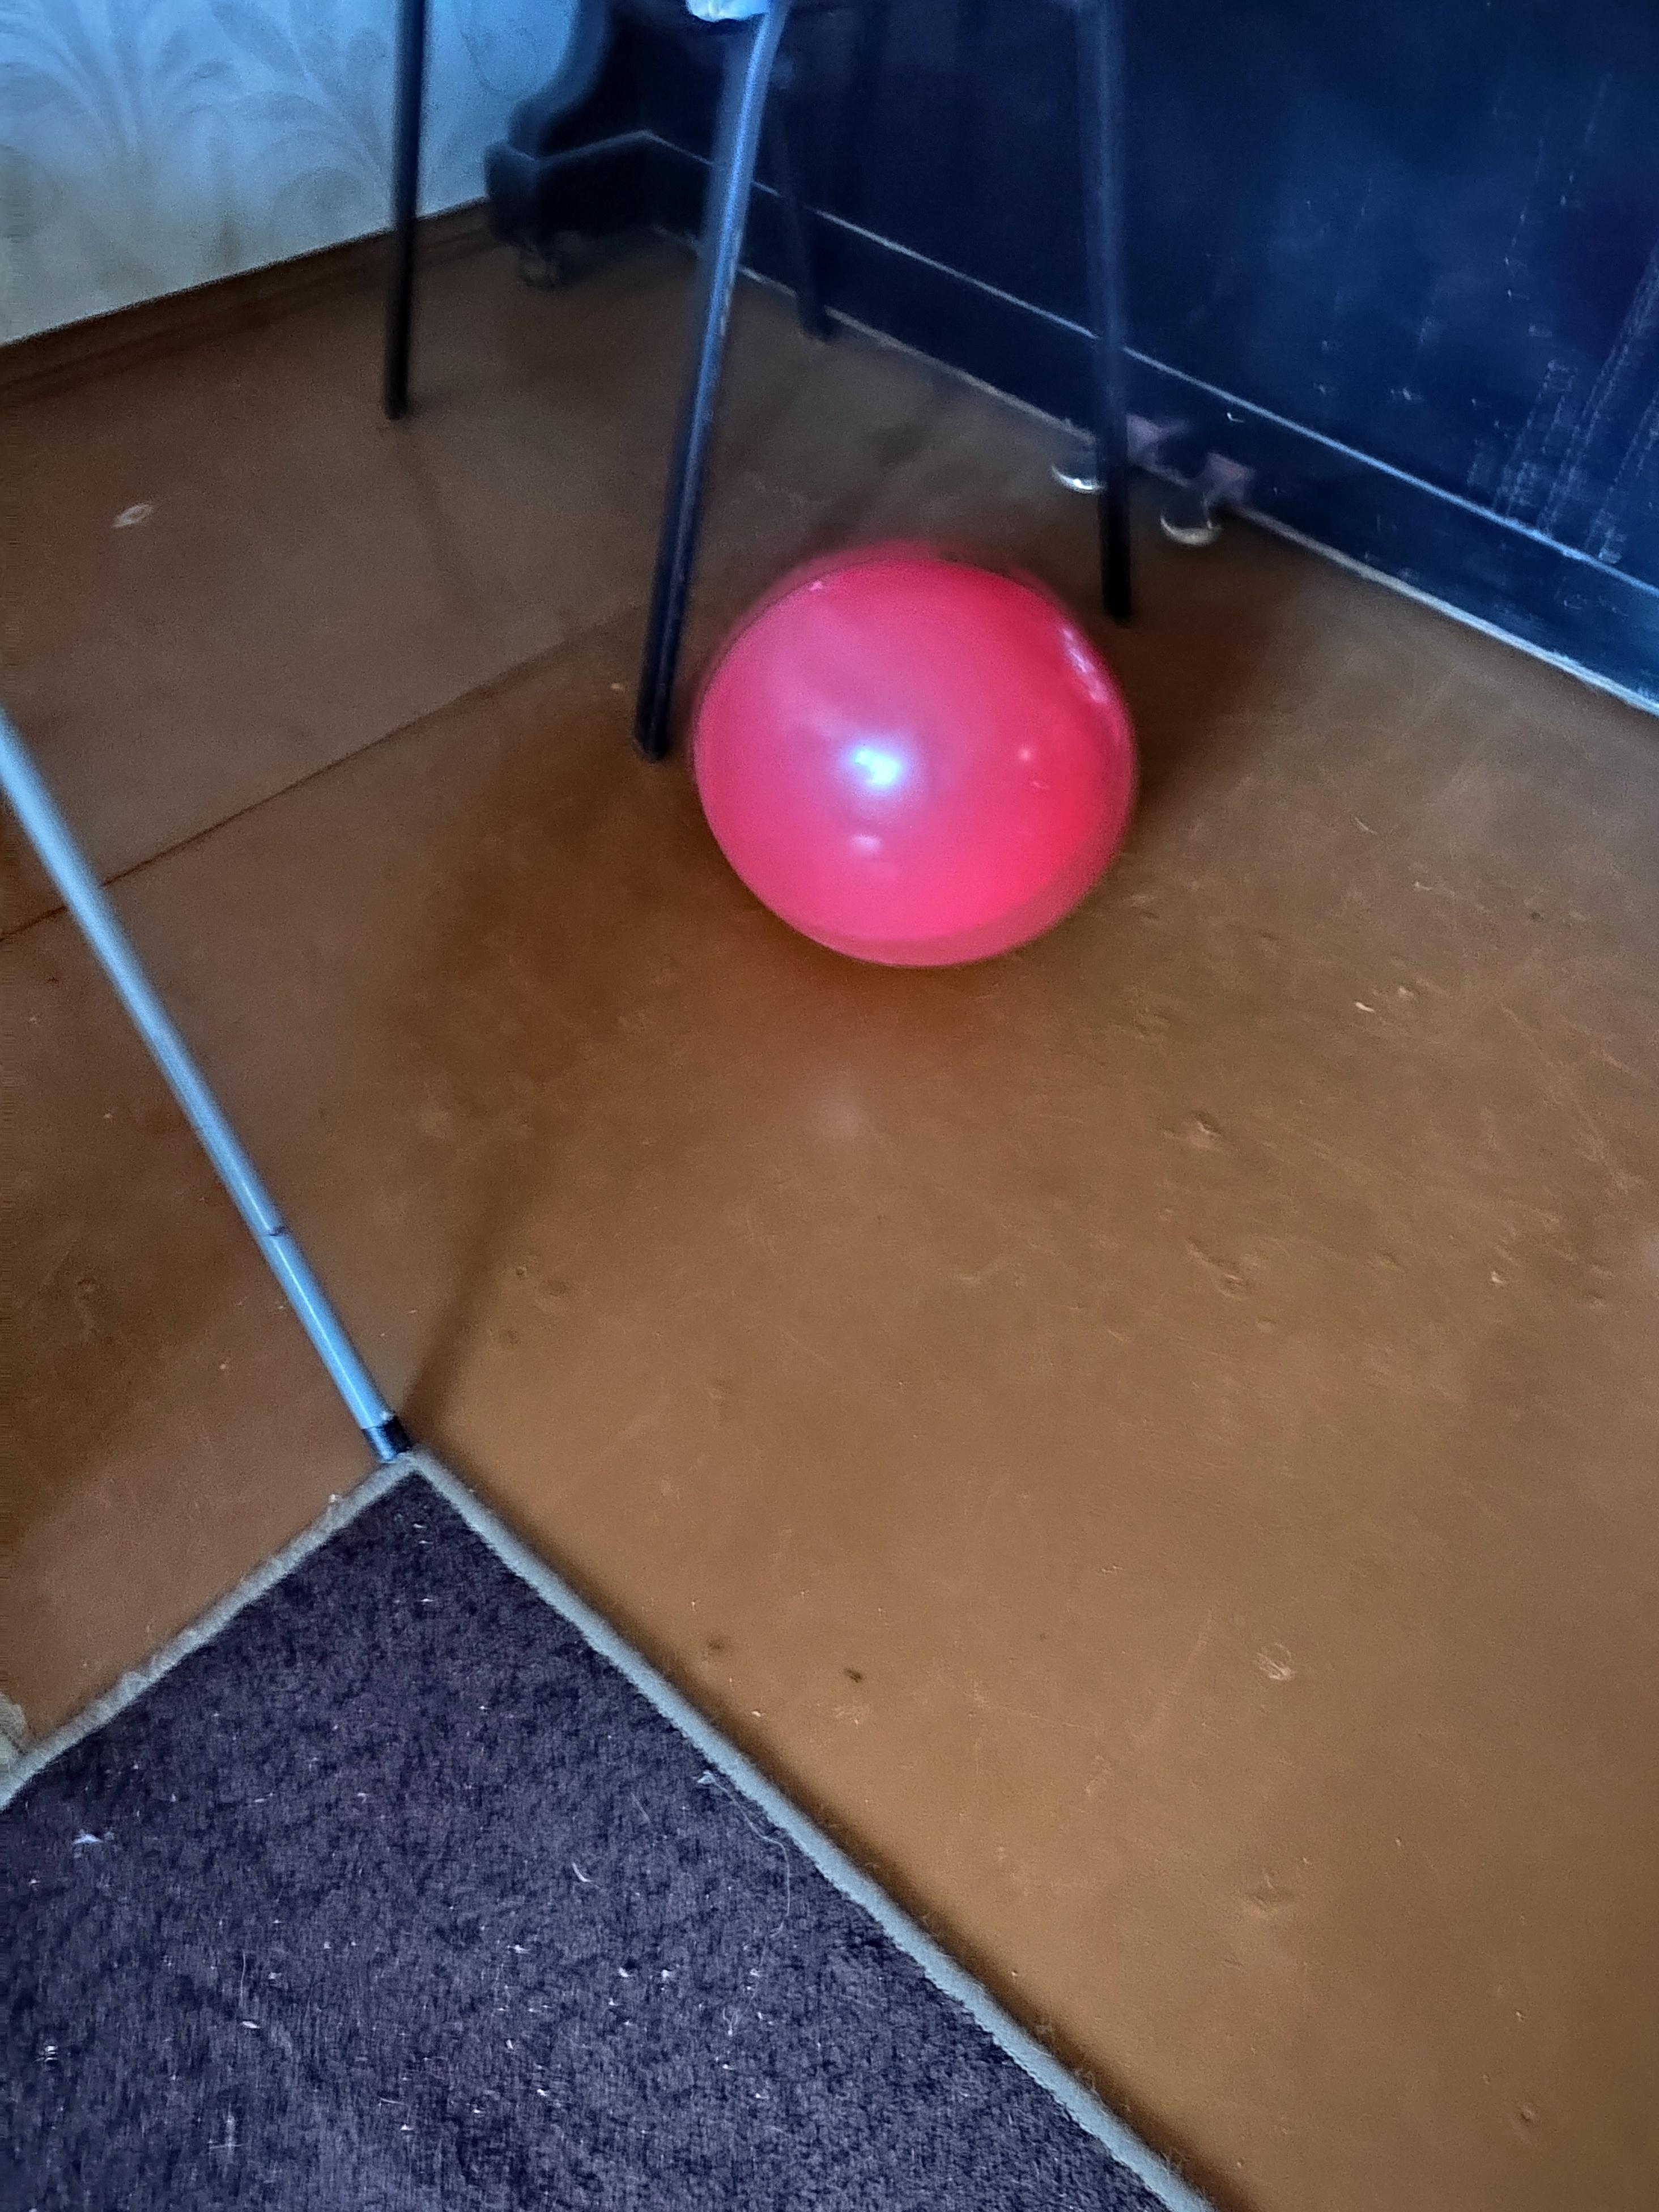red: (653, 523, 1154, 1000)
